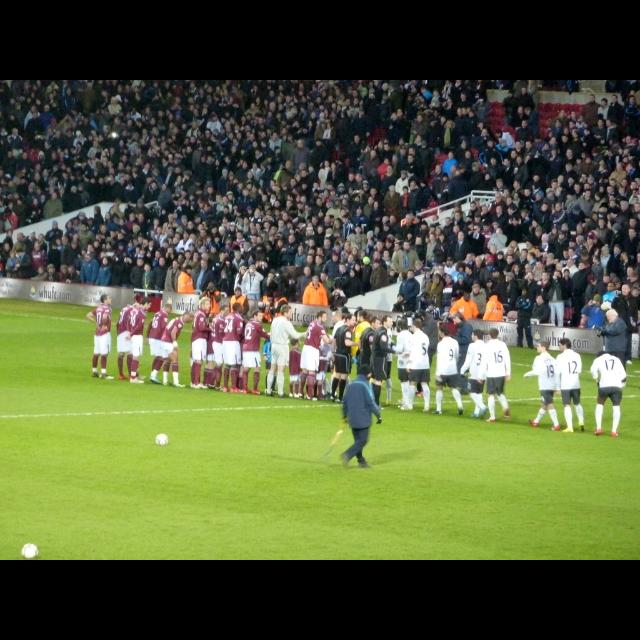Football: (17, 542, 37, 558), (155, 432, 167, 443)
